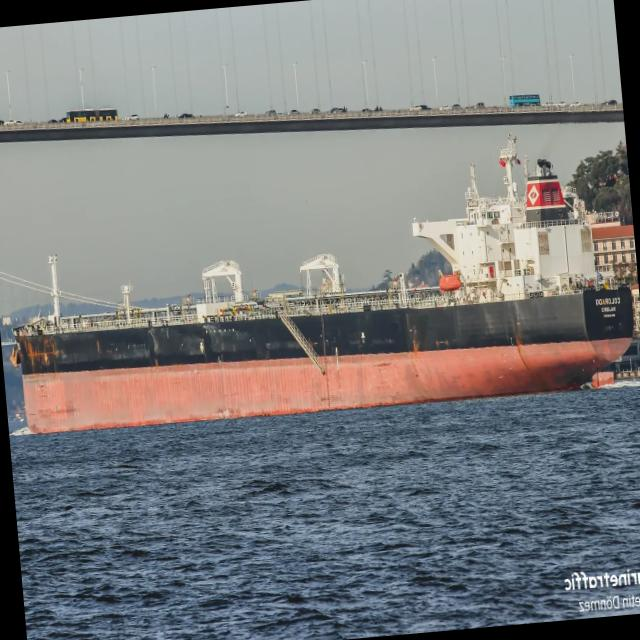Tanker: (10, 134, 633, 432)
